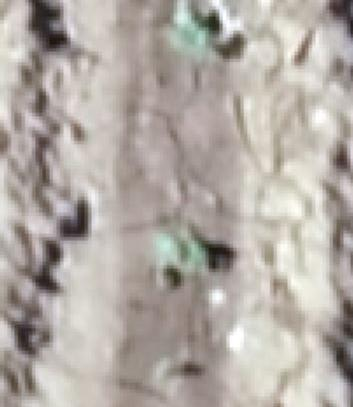cotton: (160, 233, 207, 269), (172, 20, 207, 53)
